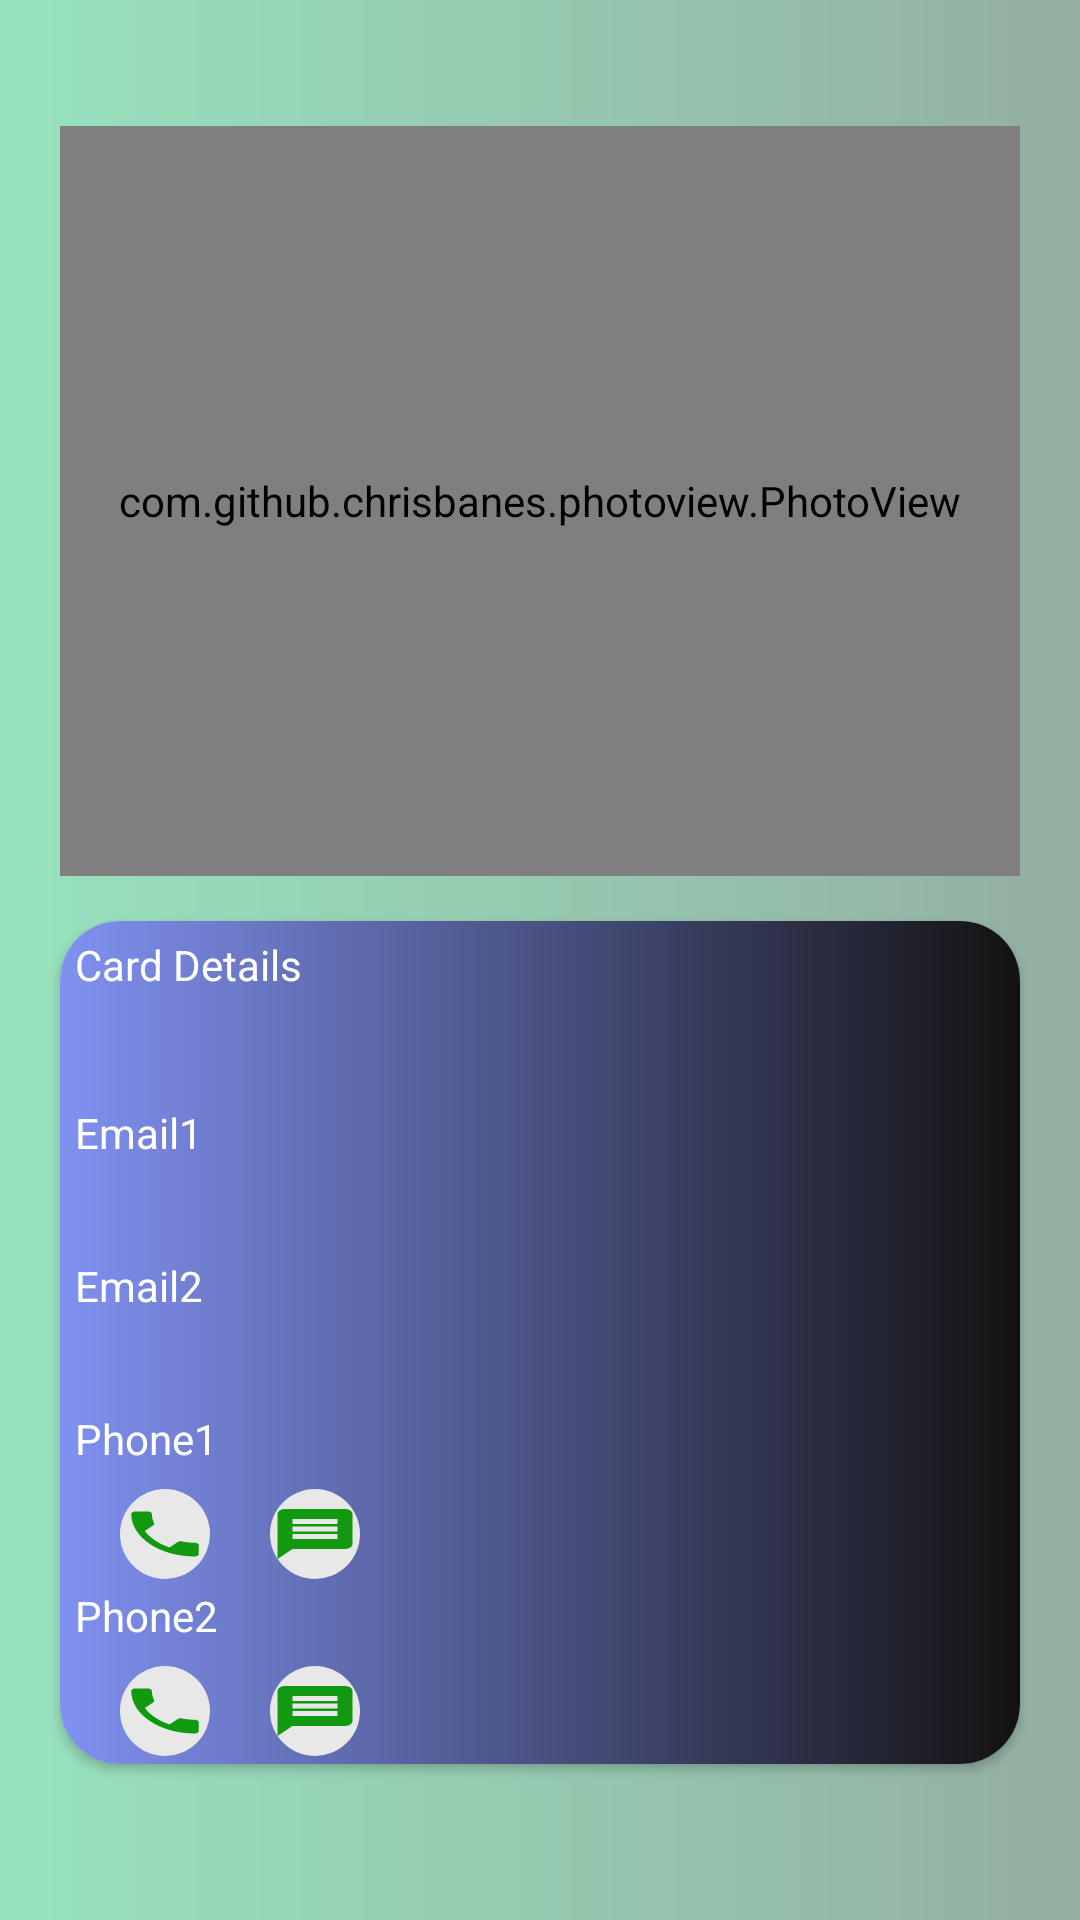

Icons on this 1080×1920 Android screen, each with its box as [x1,y1,x2,y2]:
message: [270,1489,360,1579], [270,1666,360,1756]
